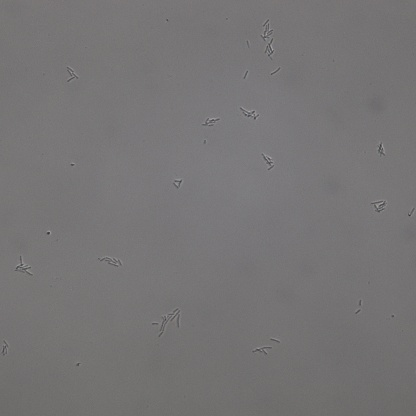R(colony): (151, 308, 181, 338), (13, 256, 32, 276), (97, 256, 123, 267), (261, 18, 273, 40), (240, 108, 260, 121), (265, 42, 276, 63), (202, 116, 221, 128), (372, 199, 388, 213), (263, 153, 275, 171), (253, 346, 272, 356), (67, 67, 78, 82), (1, 341, 9, 356), (377, 143, 386, 156), (173, 178, 183, 188)
